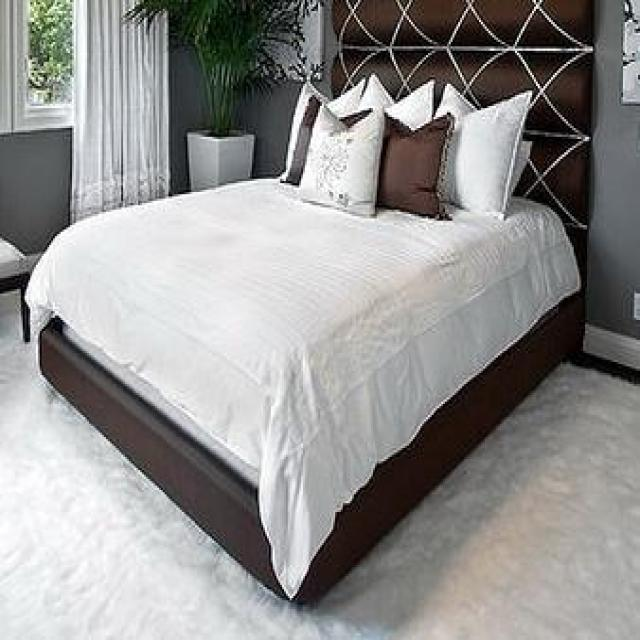bed: (23, 0, 596, 605)
chair: (0, 124, 74, 342)
